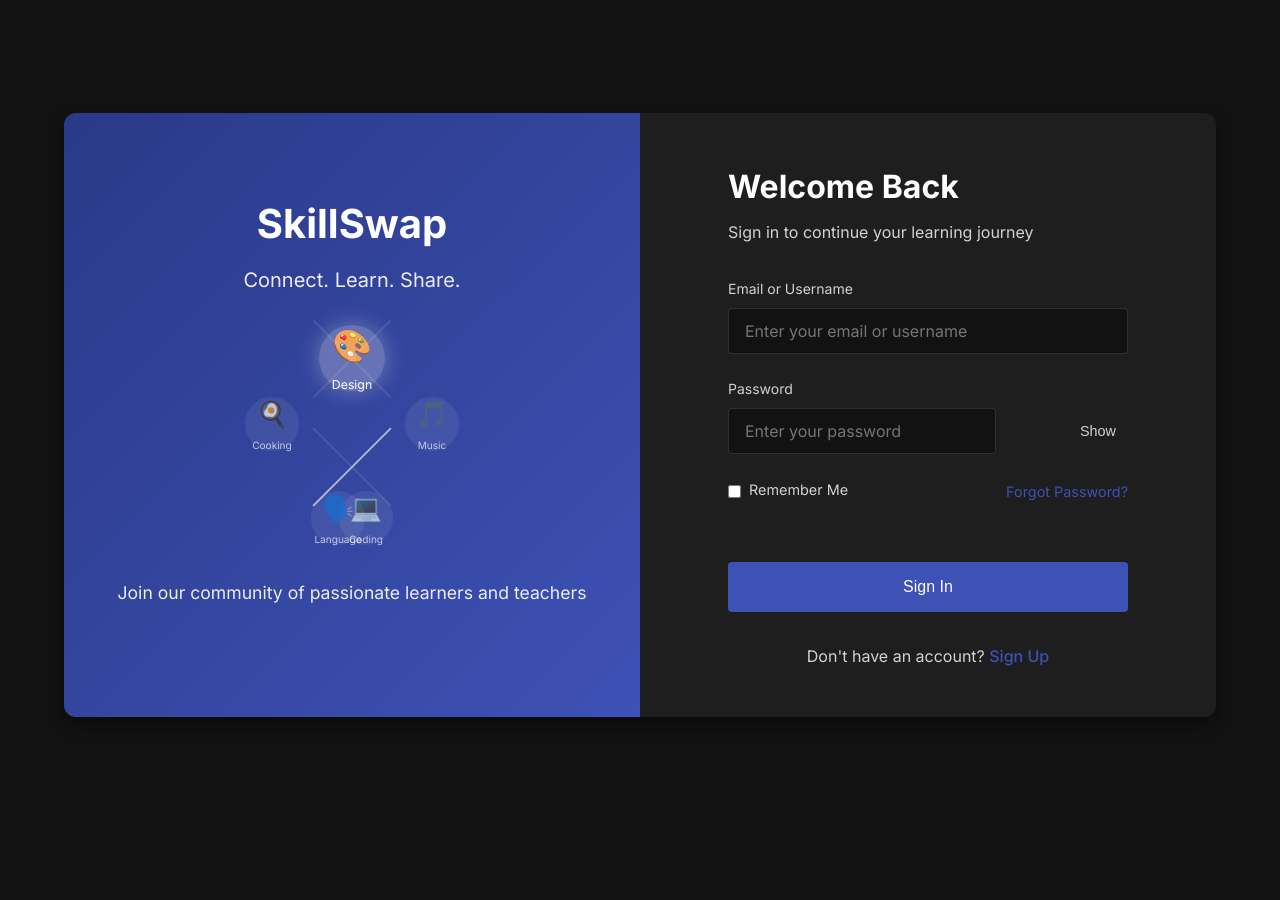
Test case: Login functionality tests › Login with blank password shows validation error
// Fill email but leave password empty
Type "johndoe" into the field labelled "Email or Username".
click(928, 331); type("johndoe")  # box x1=728 y1=308 x2=1128 y2=354
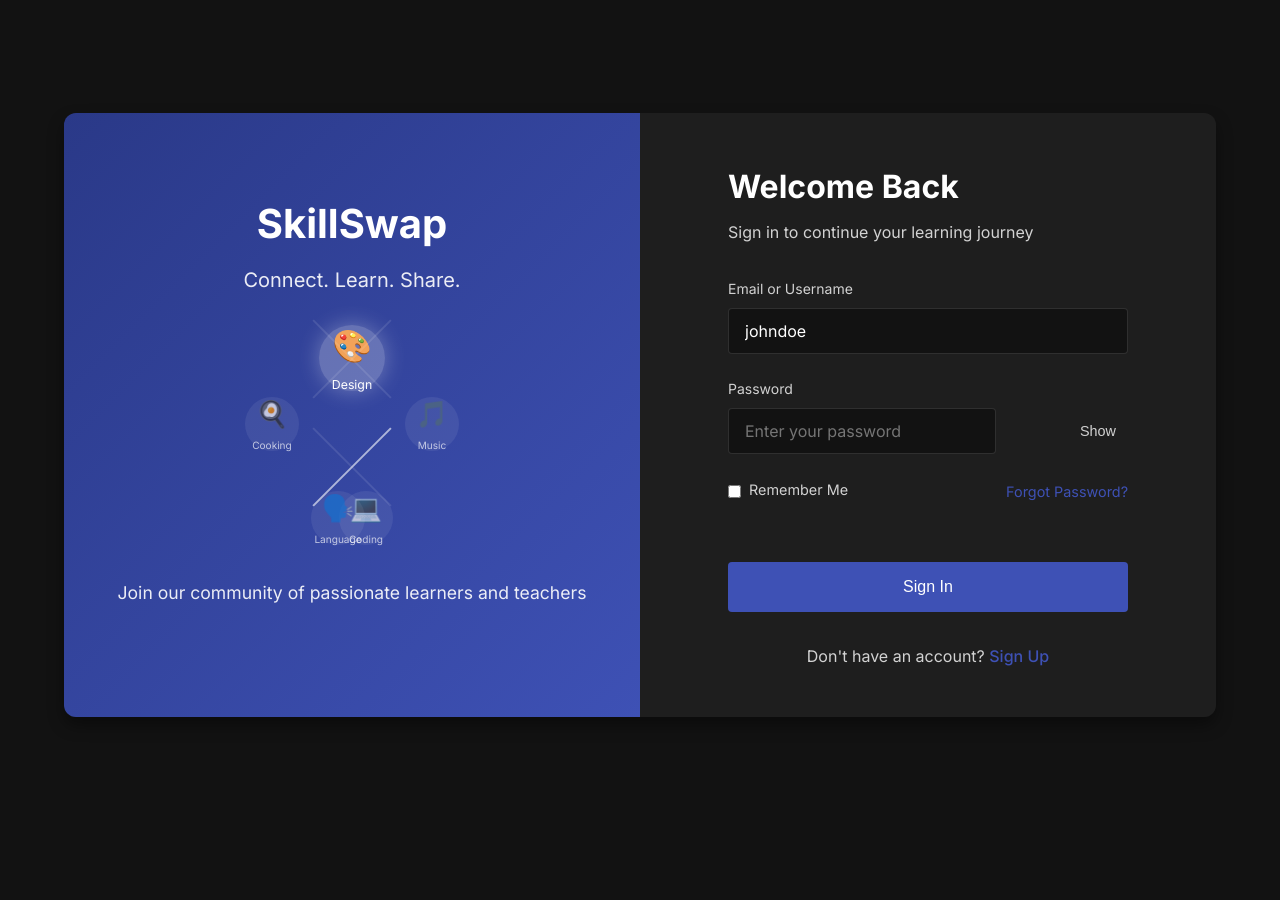
// Submit form
Click the button "Sign In".
click(928, 586)  # box x1=728 y1=562 x2=1128 y2=612
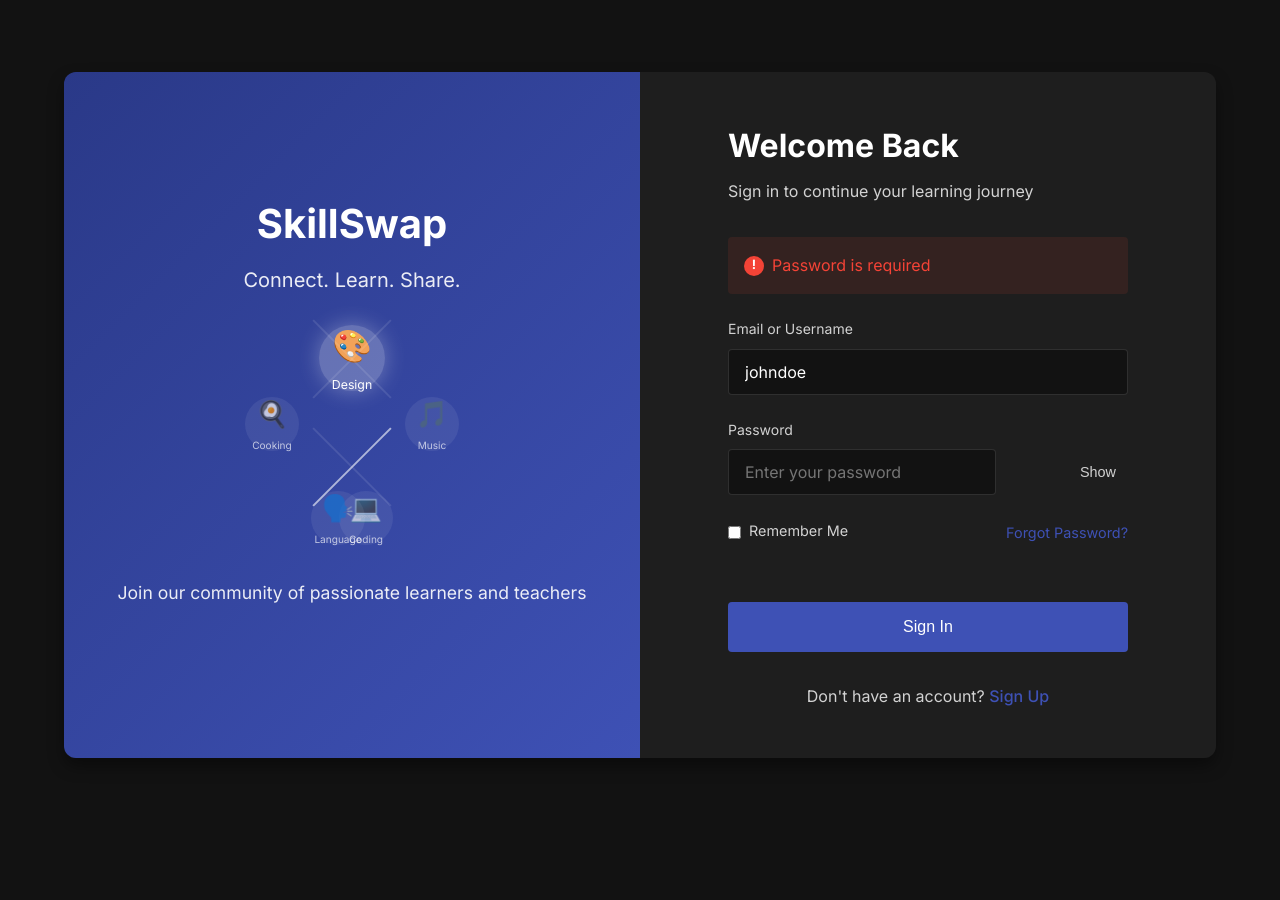
Now the text "! Password is required" is shown, box x1=728 y1=237 x2=1128 y2=294
